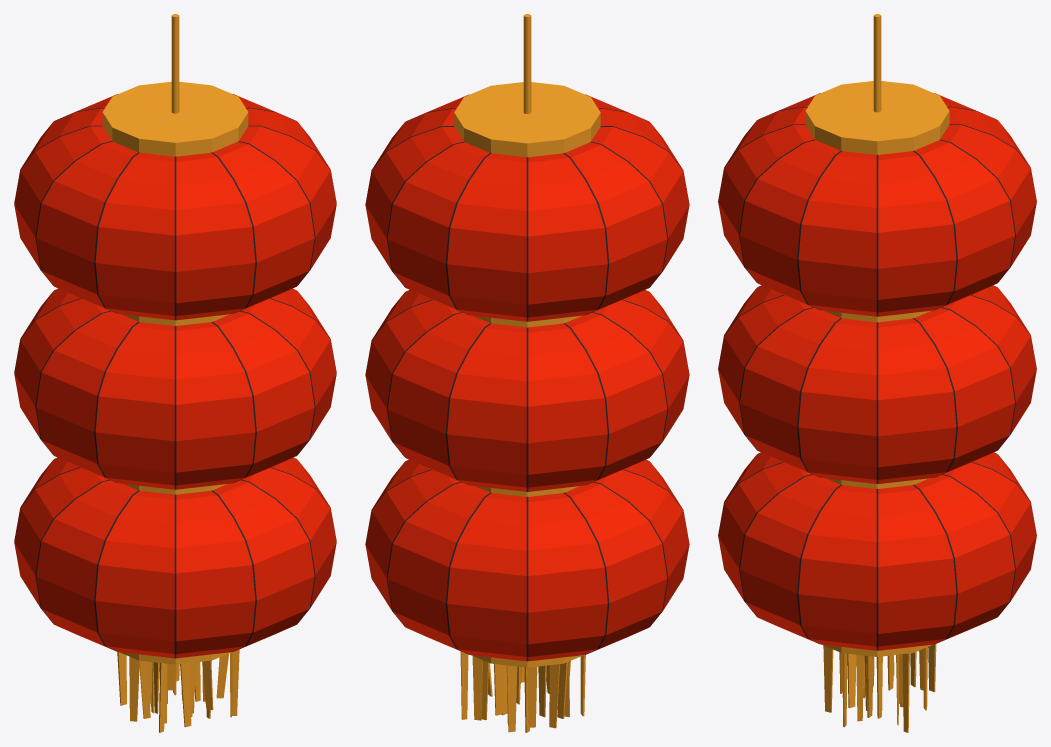
Rendered from Lantern_6.fbx.
The picture shows the model from 3 angles, left to right: view 1: azimuth 30°, elevation 25°; view 2: azimuth 150°, elevation 25°; view 3: azimuth 270°, elevation 25°; orthographic projection.
Parts seen in each view (by area): view 1: Lantern_6; view 2: Lantern_6; view 3: Lantern_6.
Part boxes in pixels (x1=…): Lantern_6: x1=14, y1=14, x2=336, y2=732; Lantern_6: x1=365, y1=14, x2=689, y2=732; Lantern_6: x1=718, y1=14, x2=1036, y2=732.
Bounding box in the file's own units: 41.08 × 98.67 × 41.08.
